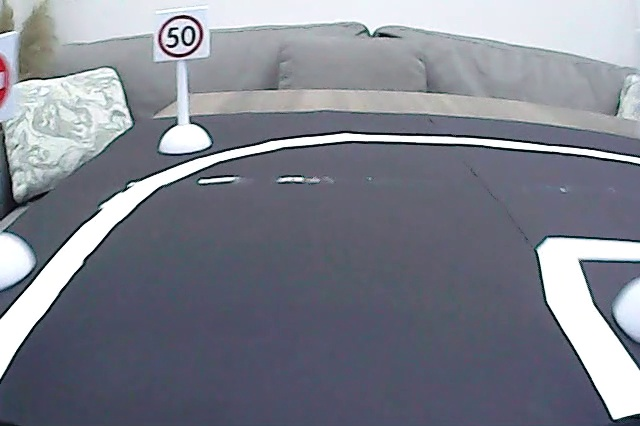speed limit 50: (156, 12, 206, 60)
